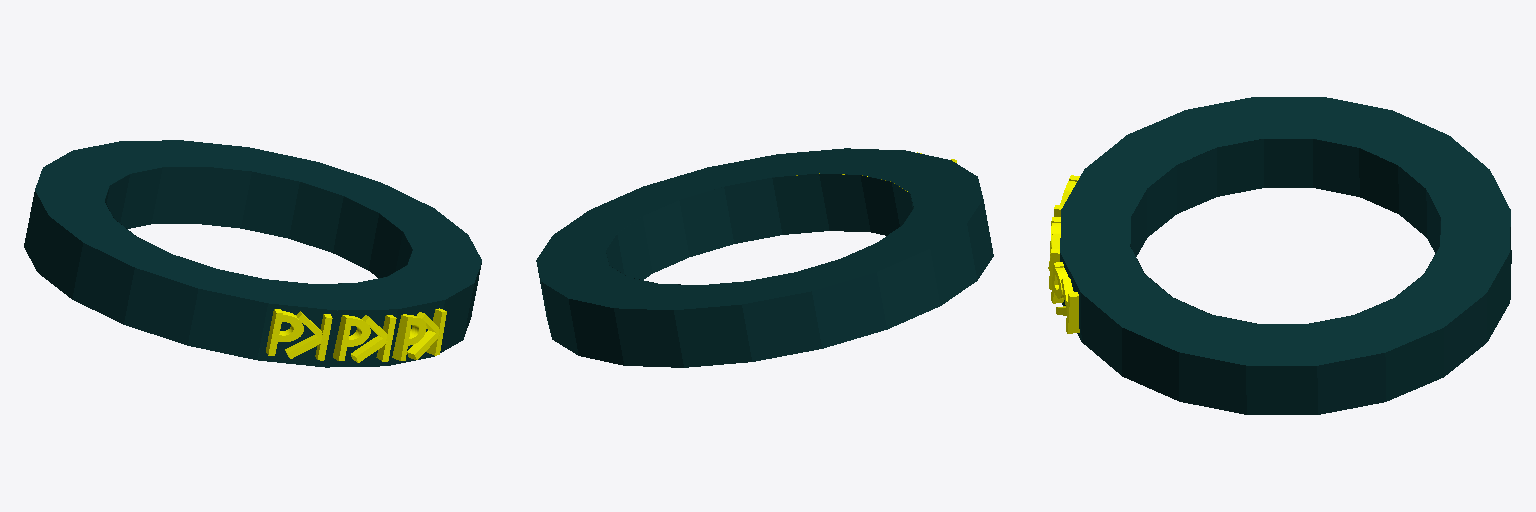
Rendered from wristbandGreen17.obj.
3 renders of one model, left to right at view 1: azimuth 30°, elevation 25°; view 2: azimuth 150°, elevation 25°; view 3: azimuth 270°, elevation 25°, orthographic.
Bounding box in the file's own units: 7.78 × 2.6 × 7.93.